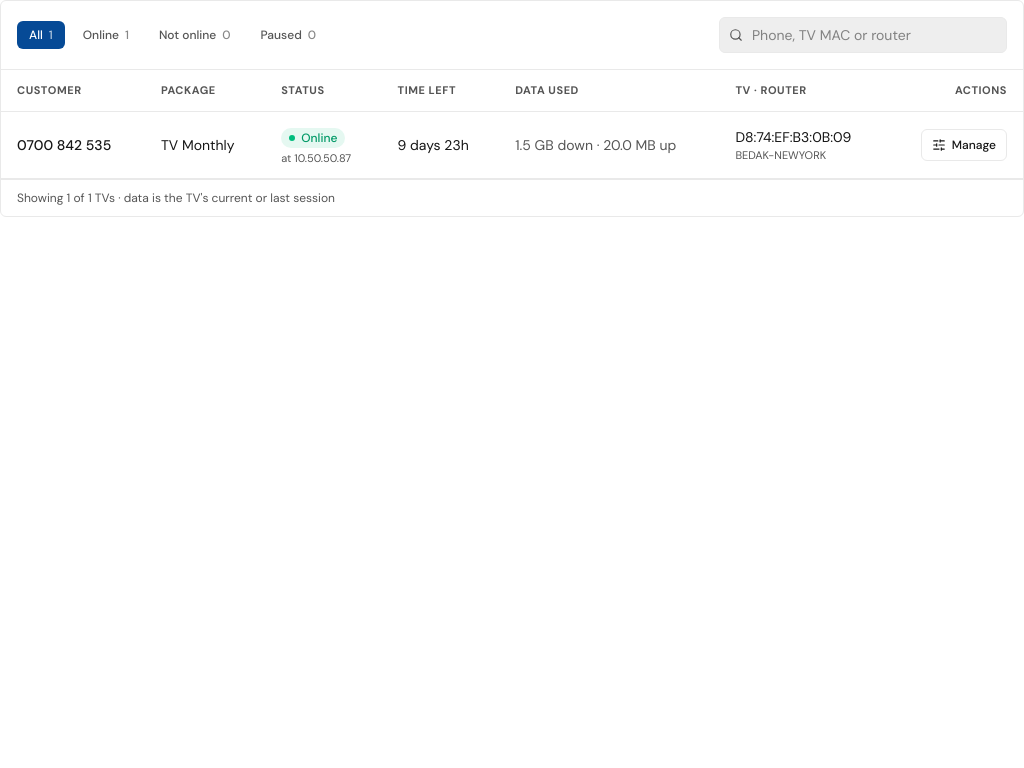
Test case: TV customers tab › hides the address correction from staff
Click the button "Manage" at (964, 145), box 921,129 -> 1007,161
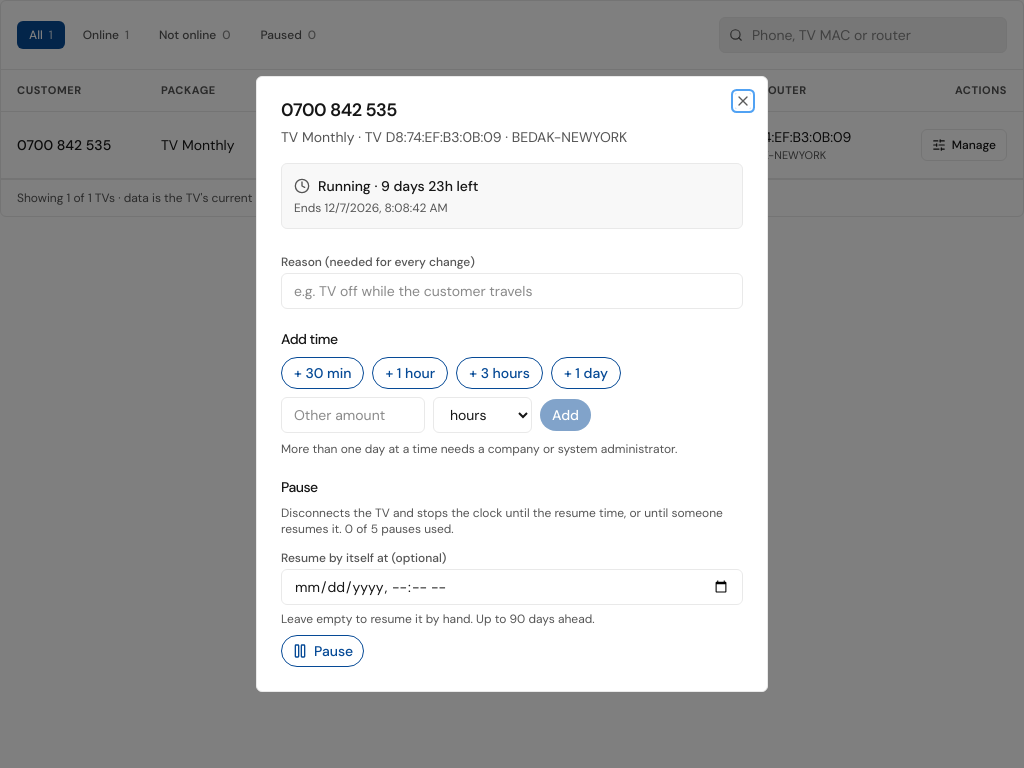
Now the field labelled "Reason (needed for every change)" is shown, box 281,273 -> 743,309
